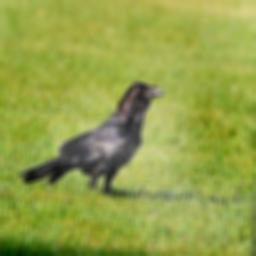Crow: (18, 79, 169, 198)
